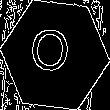O_S: (33, 27, 77, 83)
